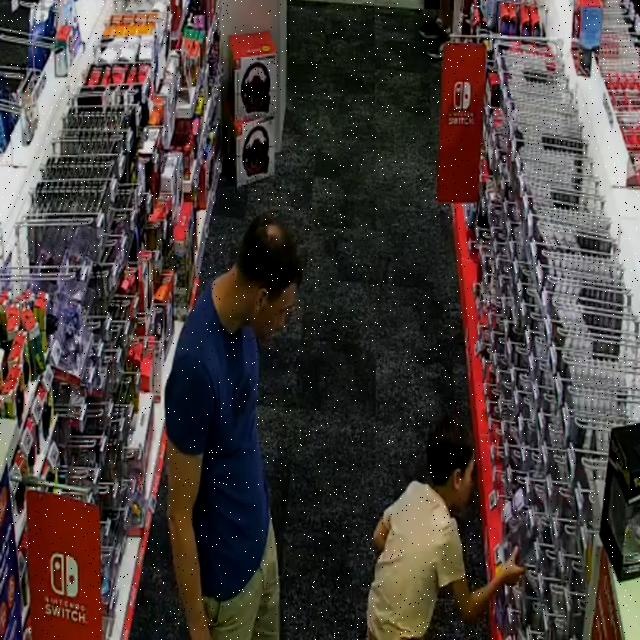article: (494, 520, 531, 577)
hands: (500, 548, 524, 585), (190, 619, 211, 639)
person: (166, 217, 301, 639), (368, 417, 523, 639)
